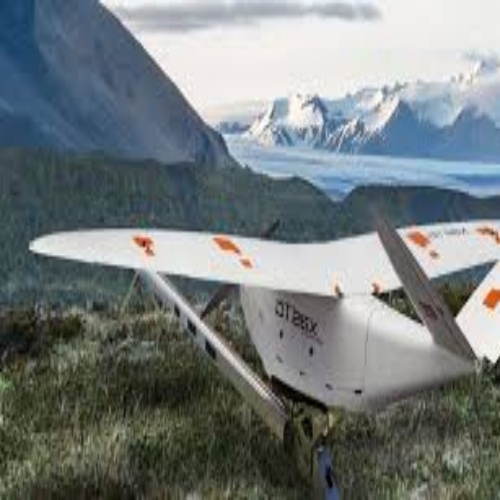uav436: (27, 202, 499, 498)
